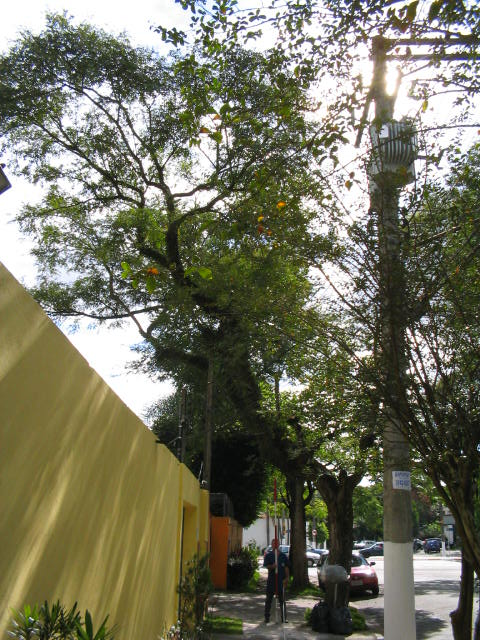crown: (4, 5, 458, 469)
stem: (312, 498, 363, 624)
stick: (268, 482, 284, 622)
tree: (1, 5, 459, 624)
